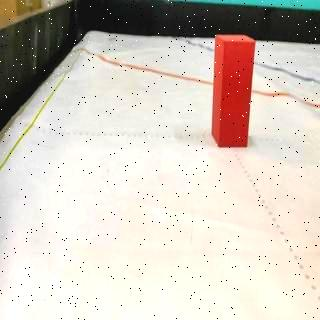redbox: (211, 34, 255, 147)
